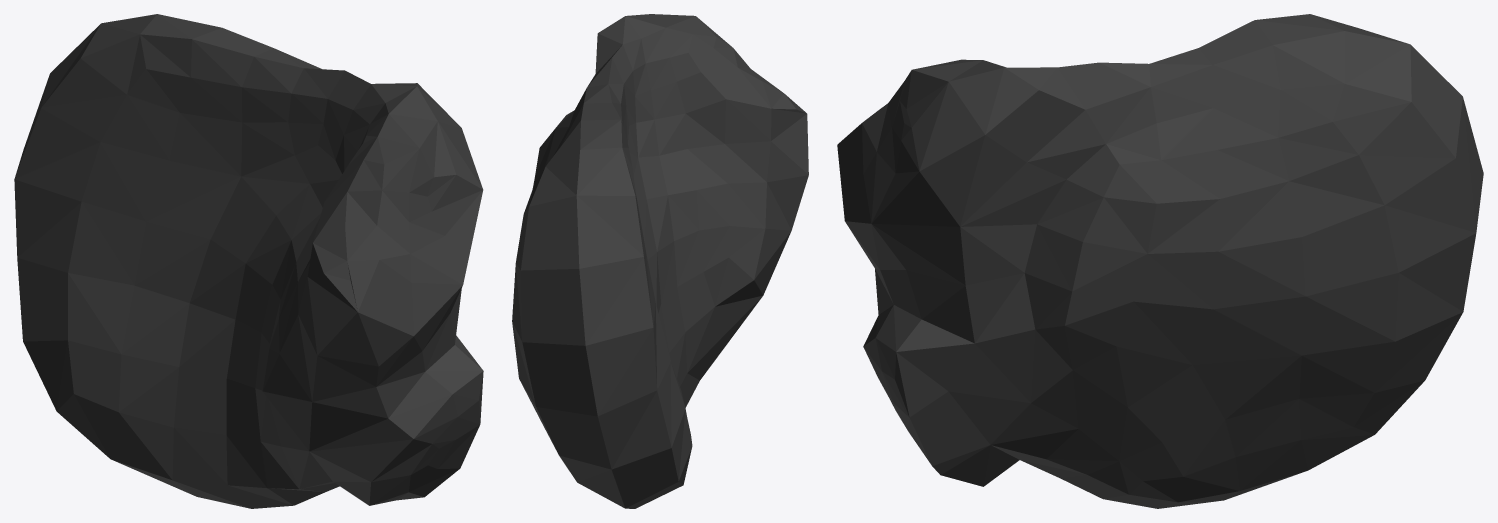
Rendered from Acc_carp_L.glb.
3 views of the same model, side by side, from view 1: azimuth 30°, elevation 25°; view 2: azimuth 150°, elevation 25°; view 3: azimuth 270°, elevation 25° (orthographic). The views are drawn at different scales.
Parts seen in each view (by area): view 1: Acc_carp_L; view 2: Acc_carp_L; view 3: Acc_carp_L.
Part boxes in pixels (x1,y1,x2,y2): Acc_carp_L: [14, 14, 483, 508]; Acc_carp_L: [512, 14, 808, 508]; Acc_carp_L: [837, 14, 1483, 508].
Bounding box in the file's own units: 0.0381 × 0.0616 × 0.0727.
1 material, 1 textured.
